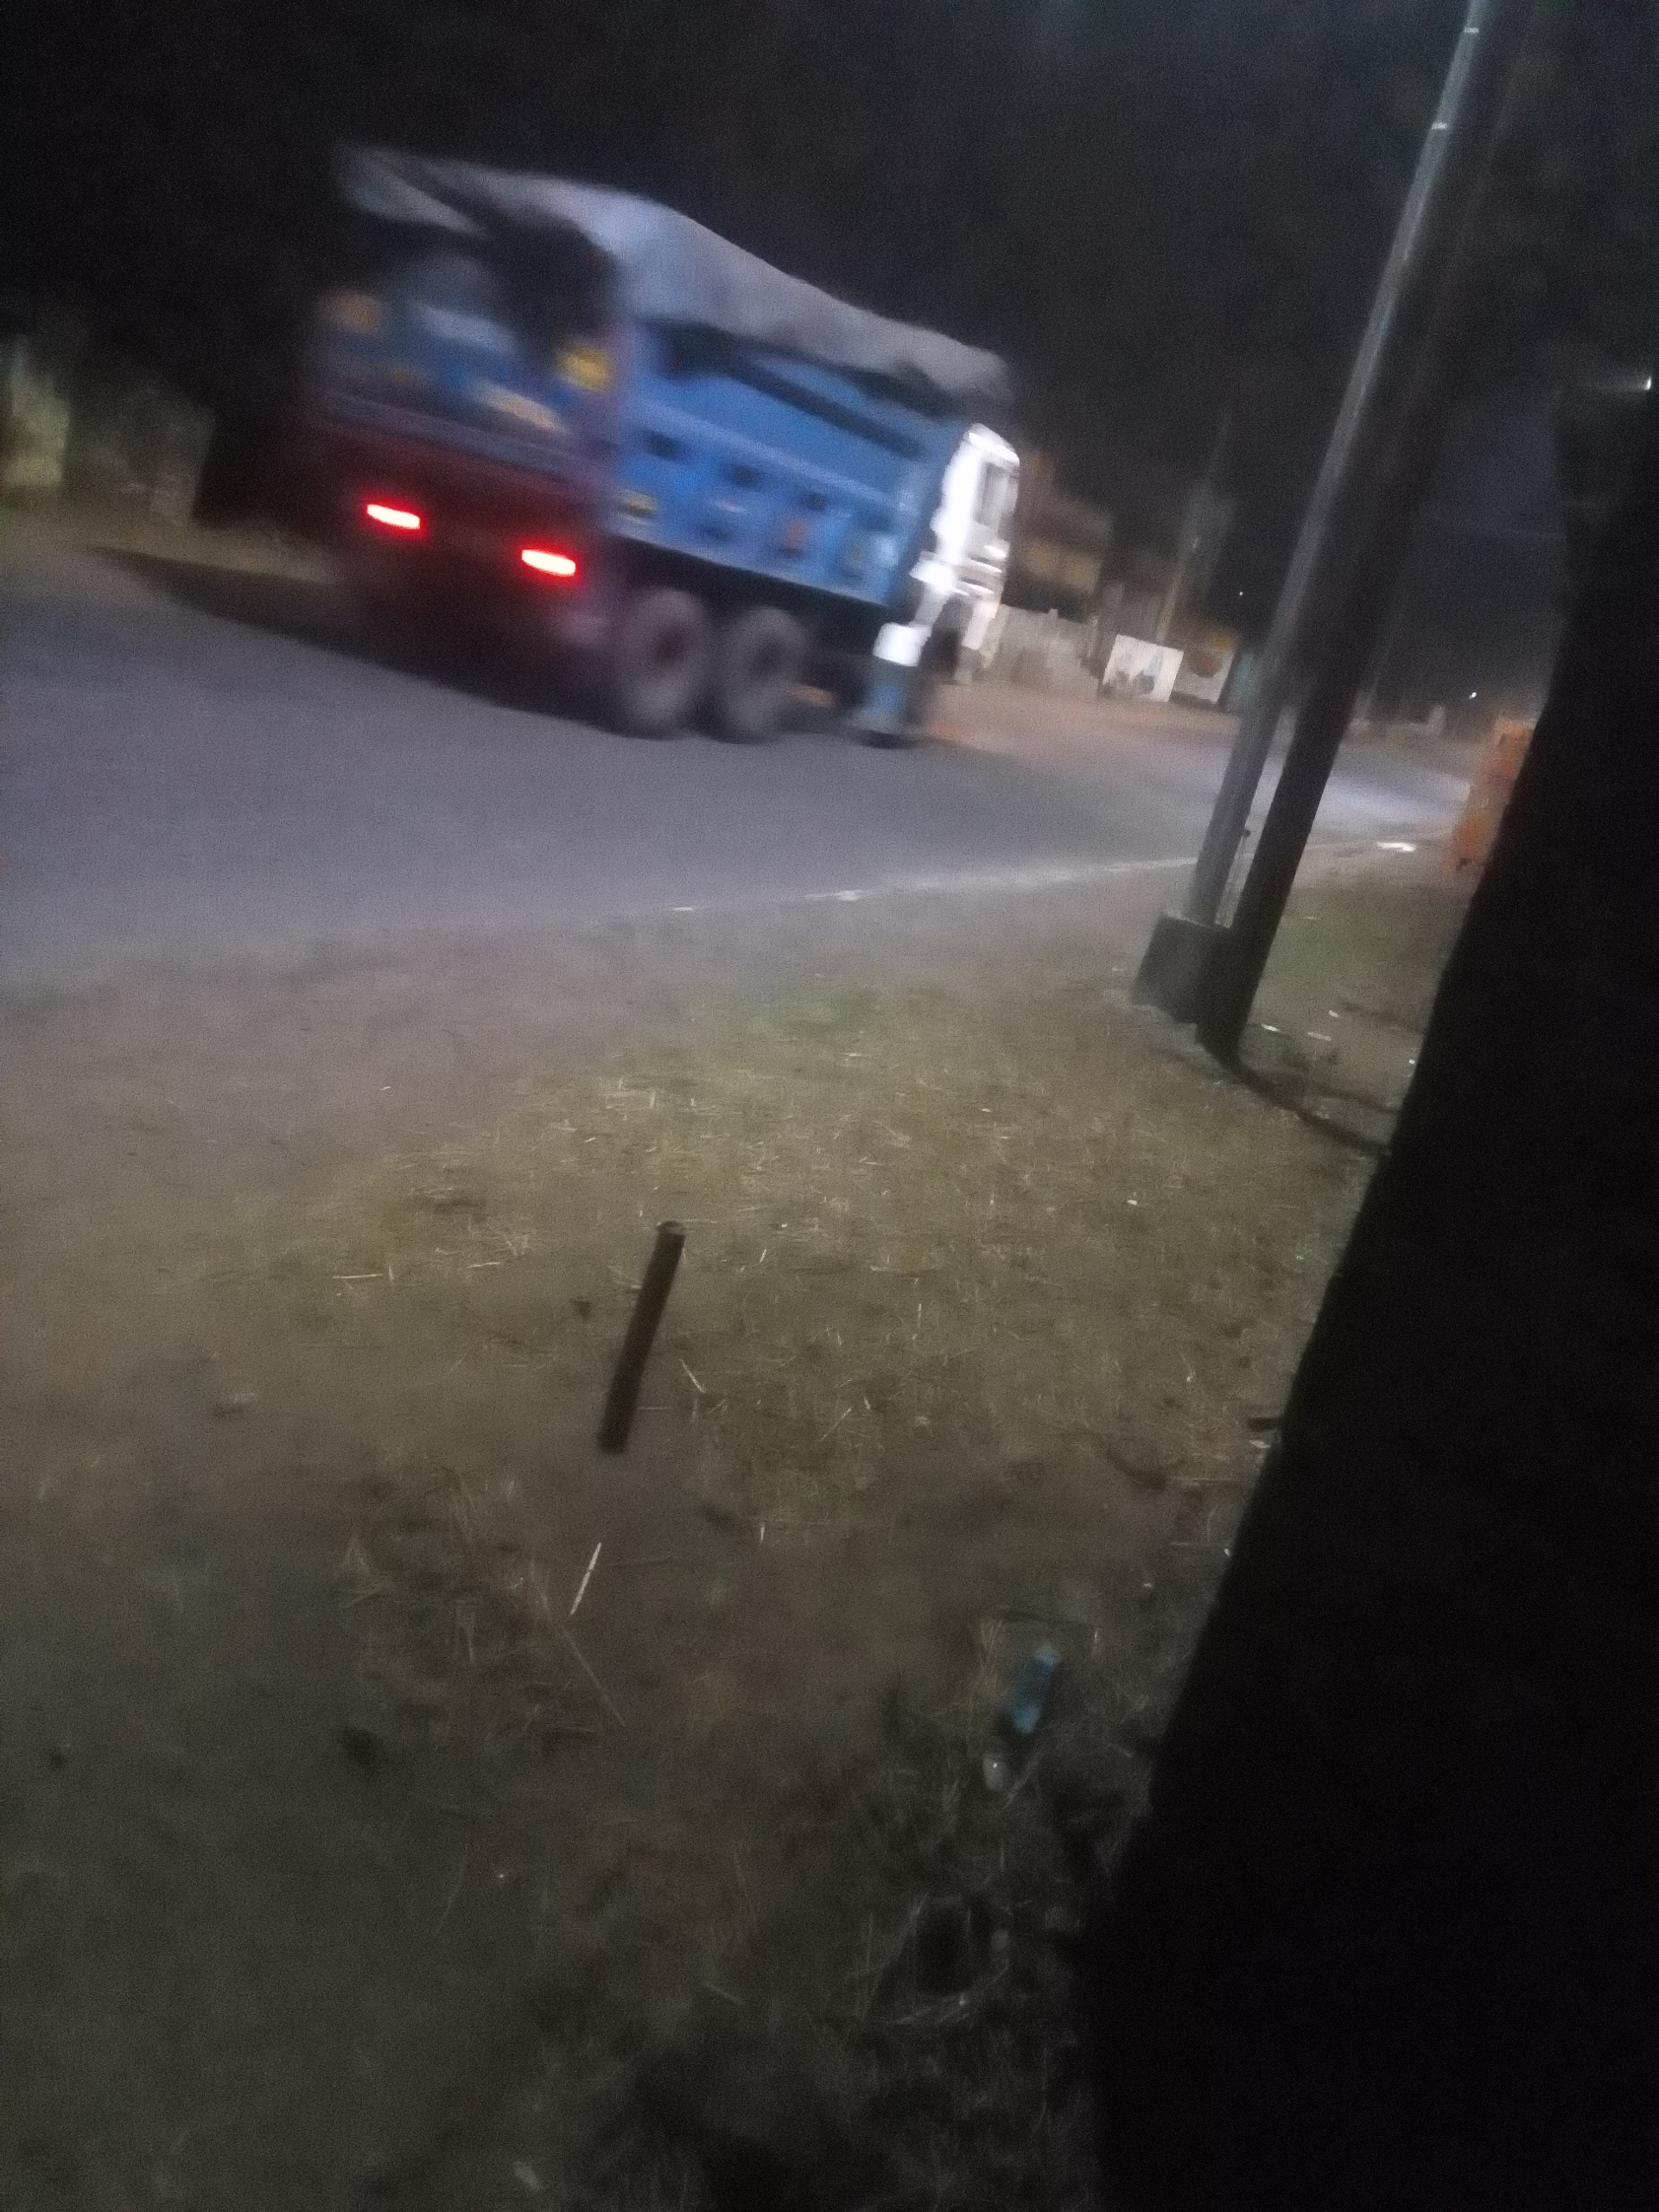truck: (288, 127, 1025, 747)
